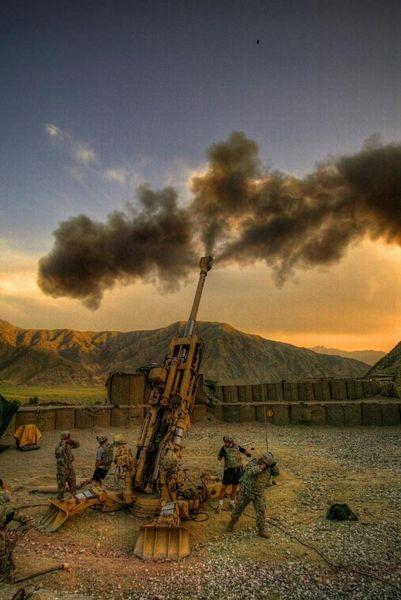smoke: (46, 137, 390, 283)
